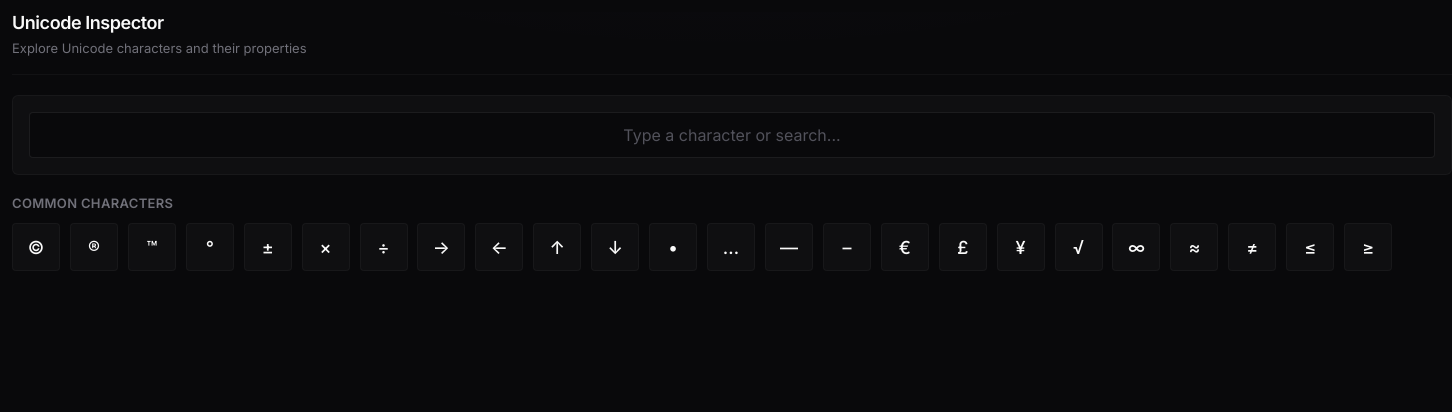
Test: UnicodeTool › should show character details when character clicked
Click the button with class "char-btn" showing "©" at (36, 247), box [12,223,60,271]
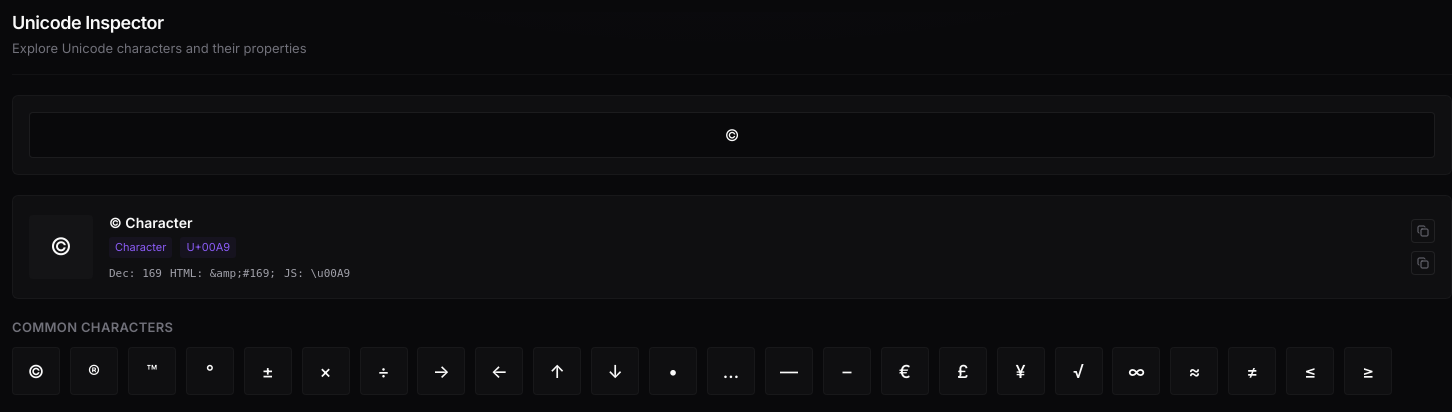
Check: the element with class "char-card" is shown, box [12,195,1451,299]
